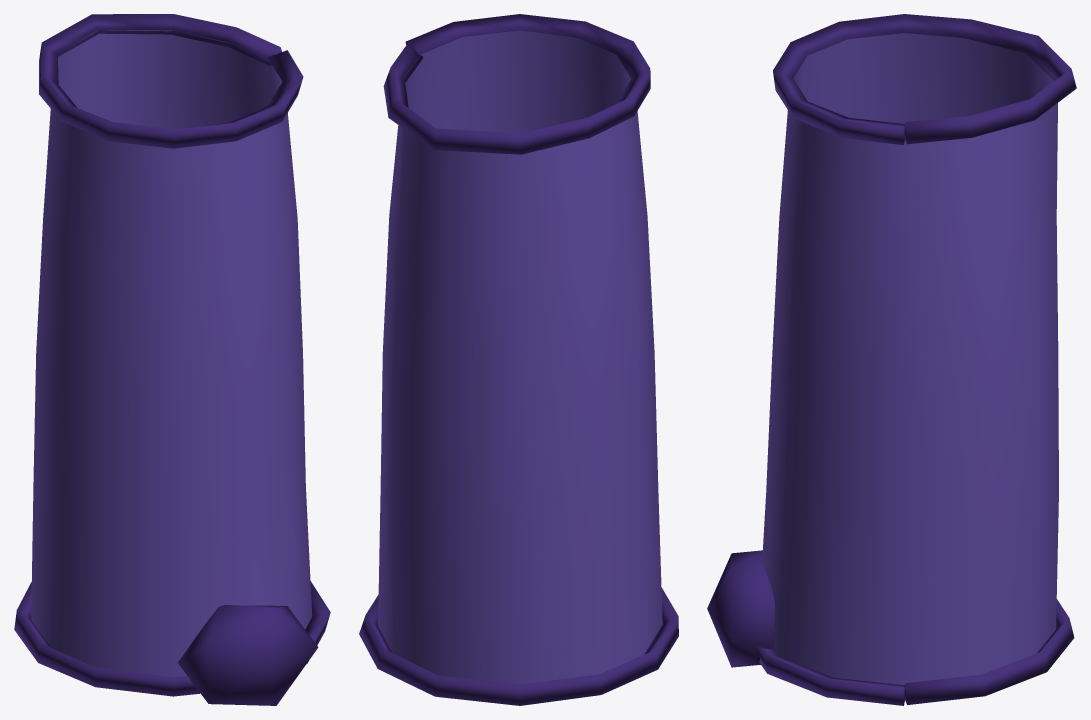
File: demonite_armor_greave.L.glb
3 views of the same model, side by side, from view 1: azimuth 30°, elevation 25°; view 2: azimuth 150°, elevation 25°; view 3: azimuth 270°, elevation 25° (orthographic). The views are drawn at different scales.
Parts seen in each view (by area): view 1: demonite_armor_greave.L; view 2: demonite_armor_greave.L; view 3: demonite_armor_greave.L.
Part boxes in pixels (x1,y1,x2,y2): demonite_armor_greave.L: [14, 14, 330, 705]; demonite_armor_greave.L: [359, 14, 678, 705]; demonite_armor_greave.L: [707, 14, 1076, 705].
Bounding box in the file's own units: 0.1996 × 0.4044 × 0.2298.
